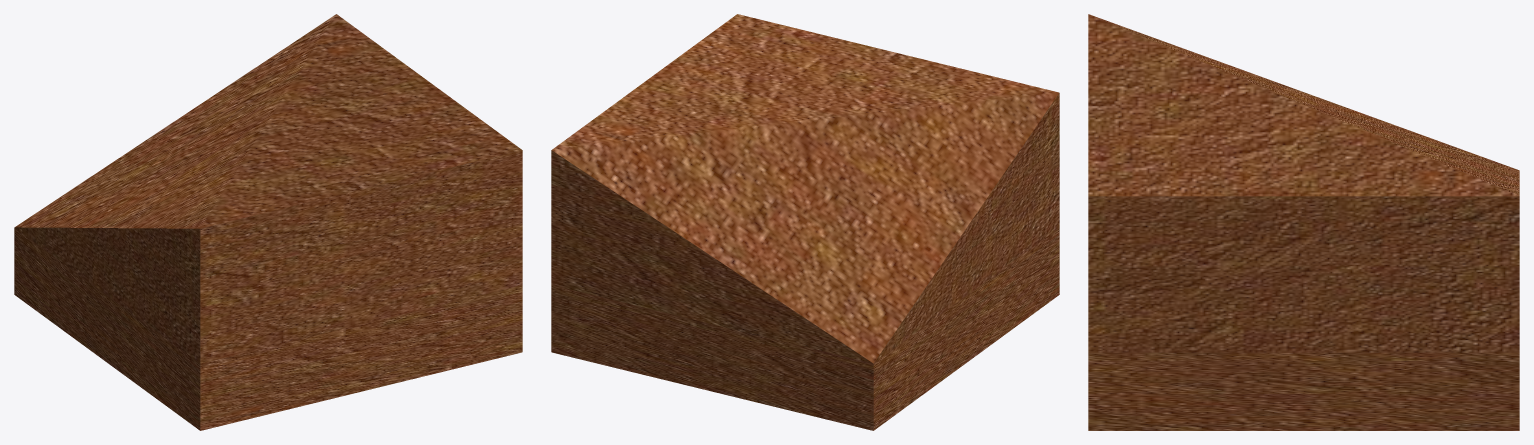
Rendered from Map0222.fbx.
3 renders of one model, left to right at view 1: azimuth 30°, elevation 25°; view 2: azimuth 150°, elevation 25°; view 3: azimuth 270°, elevation 25°, orthographic. The views are drawn at different scales.
Parts seen in each view (by area): view 1: Map0222, Map0000; view 2: Map0222, Map0000; view 3: Map0222, Map0000.
Part boxes in pixels (left/top/right/bottom): Map0222: left=15, top=14, right=522, bottom=363; Map0000: left=14, top=227, right=522, bottom=430; Map0222: left=551, top=14, right=1059, bottom=363; Map0000: left=551, top=227, right=1059, bottom=430; Map0222: left=1088, top=14, right=1519, bottom=352; Map0000: left=1088, top=352, right=1519, bottom=430.
Size of the model in its own units: 200 by 120 by 200.
2 materials, 2 textured.
